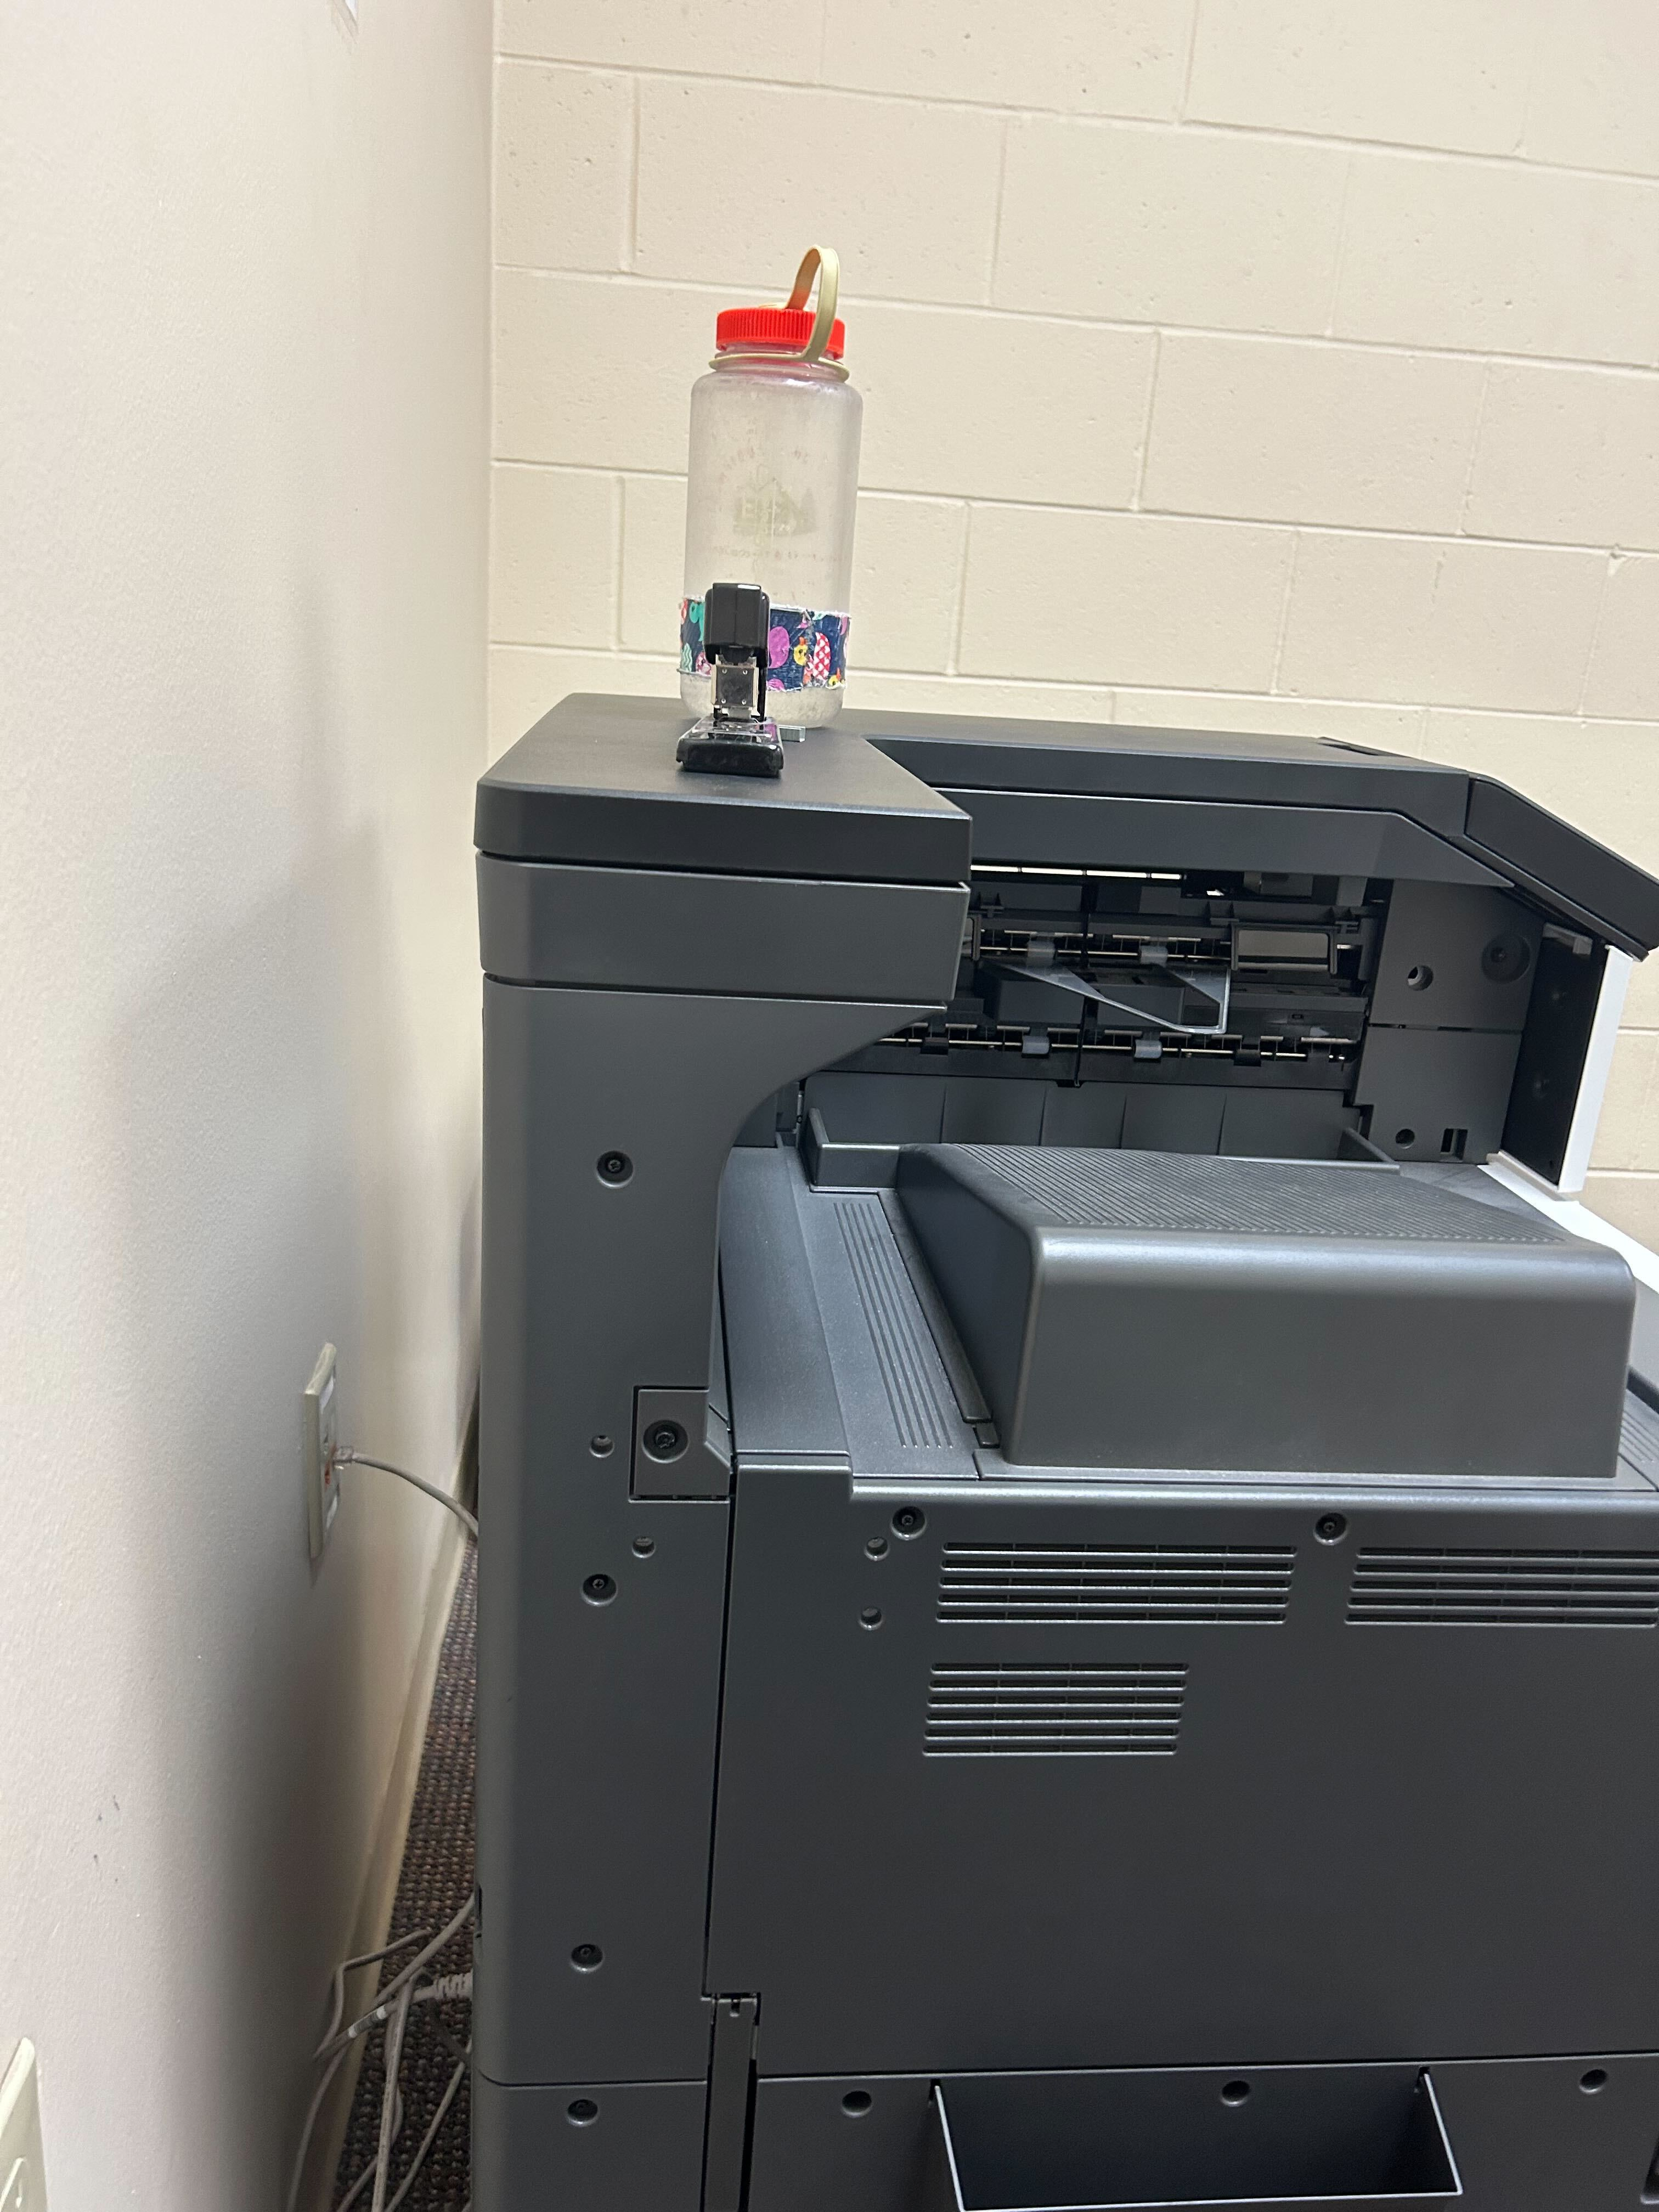bottle: (674, 232, 864, 749)
